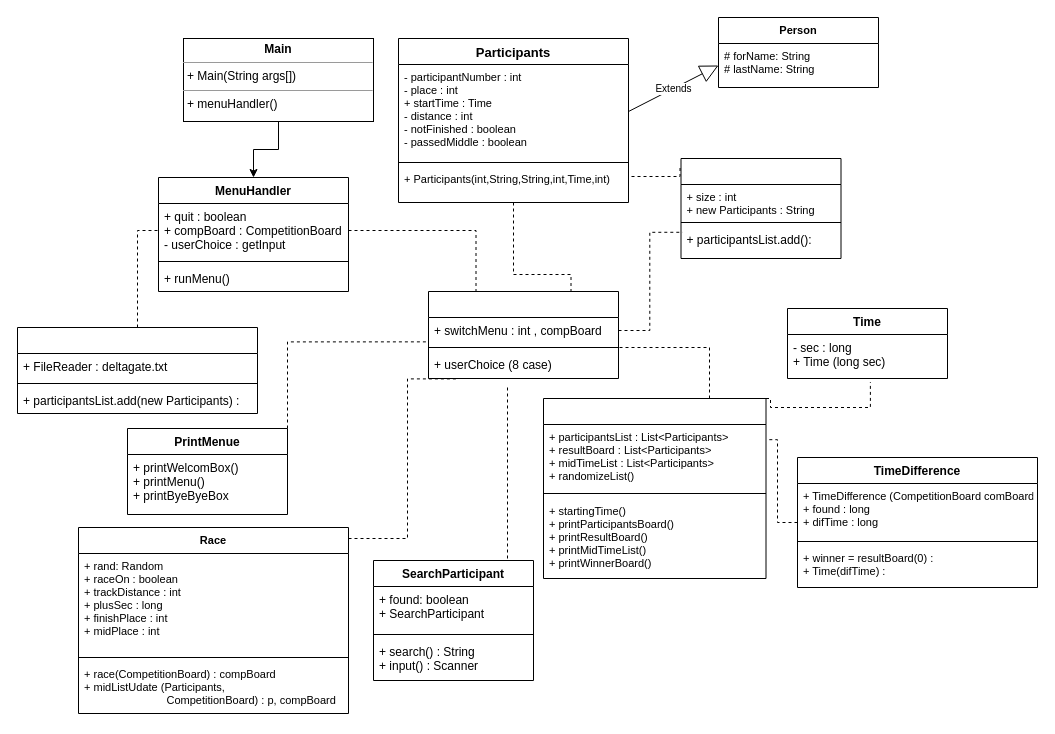
Image size: 1055x734. Some labels were removed from this diagram. The box of each missing label's shape, as (x1, y1, x2, y2) in pixels:
CompetitionBoard: (542, 398, 766, 578)
FillFromFile: (16, 326, 258, 414)
MenuManager: (428, 290, 618, 378)
NewRegistration: (680, 158, 841, 258)
